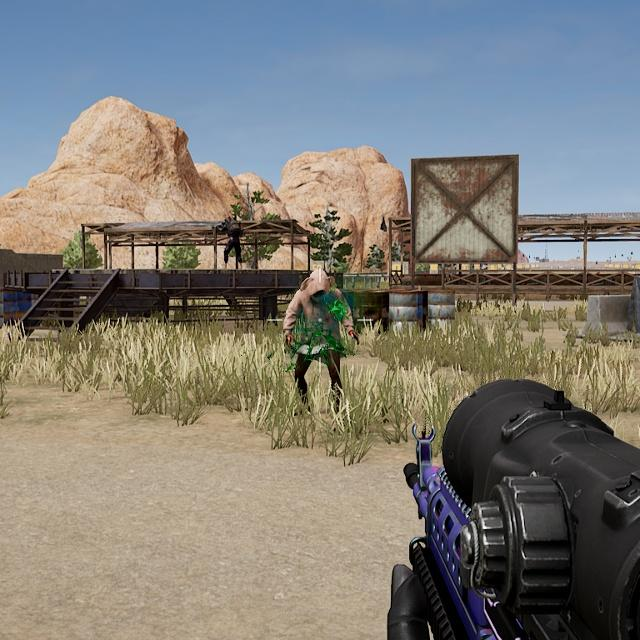head: (305, 265, 337, 309)
people: (282, 267, 359, 421)
